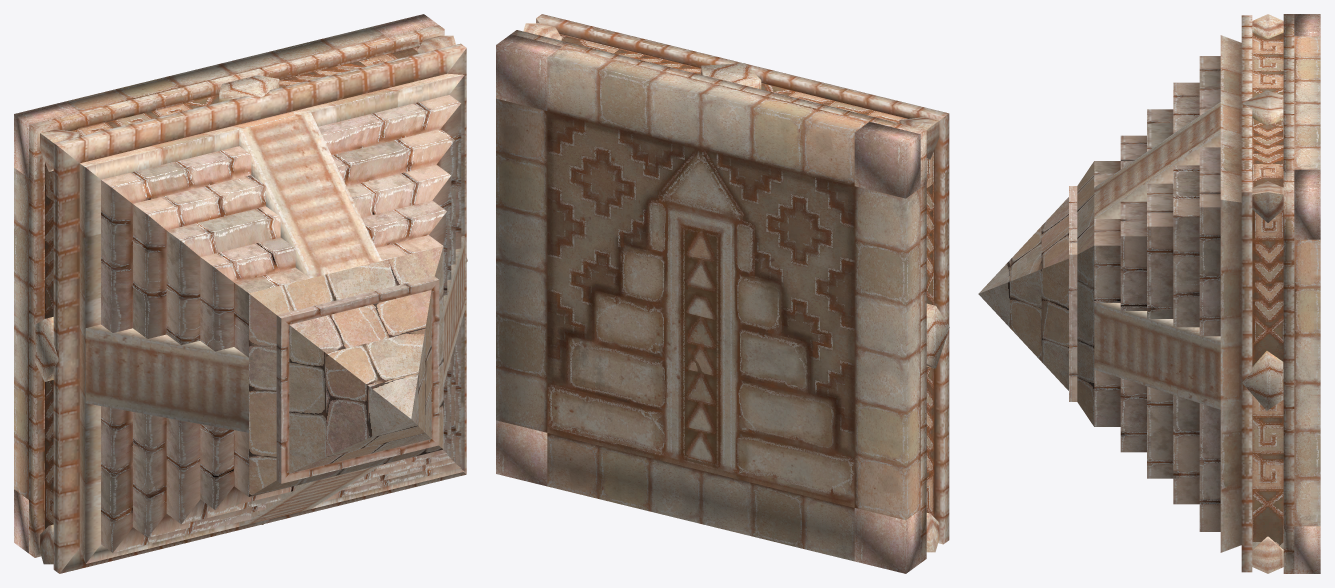
File: Lift001.obj
The picture shows the model from 3 angles, left to right: view 1: azimuth 30°, elevation 25°; view 2: azimuth 150°, elevation 25°; view 3: azimuth 270°, elevation 25°; orthographic projection. The views are drawn at different scales.
Parts seen in each view (by area): view 1: pasted__pCube4485__Stone_Lift00, polySurface15__StairStoneBase01, polySurface42__WallBrickBase04, StonePillar_EdgeStone01_low5__StonePillar00; view 2: pasted__pCube4485__Stone_Lift00, StonePillar_EdgeStone01_low5__StonePillar00; view 3: pasted__pCube4485__Stone_Lift00, polySurface15__StairStoneBase01, polySurface42__WallBrickBase04, StonePillar_EdgeStone01_low5__StonePillar00.
Boxes of the visible parts, box(x1,y1,x2,y2) form: pasted__pCube4485__Stone_Lift00: box(14, 25, 467, 573); polySurface15__StairStoneBase01: box(101, 95, 461, 552); polySurface42__WallBrickBase04: box(249, 246, 443, 496); StonePillar_EdgeStone01_low5__StonePillar00: box(14, 14, 438, 553); pasted__pCube4485__Stone_Lift00: box(496, 14, 949, 562); StonePillar_EdgeStone01_low5__StonePillar00: box(496, 34, 920, 573); pasted__pCube4485__Stone_Lift00: box(1094, 14, 1320, 573); polySurface15__StairStoneBase01: box(1069, 56, 1220, 531); polySurface42__WallBrickBase04: box(978, 161, 1094, 426); StonePillar_EdgeStone01_low5__StonePillar00: box(1294, 14, 1320, 573).
Size of the model in its own units: 800 by 800 by 650.
Materials: 5 (4 with a texture image).
